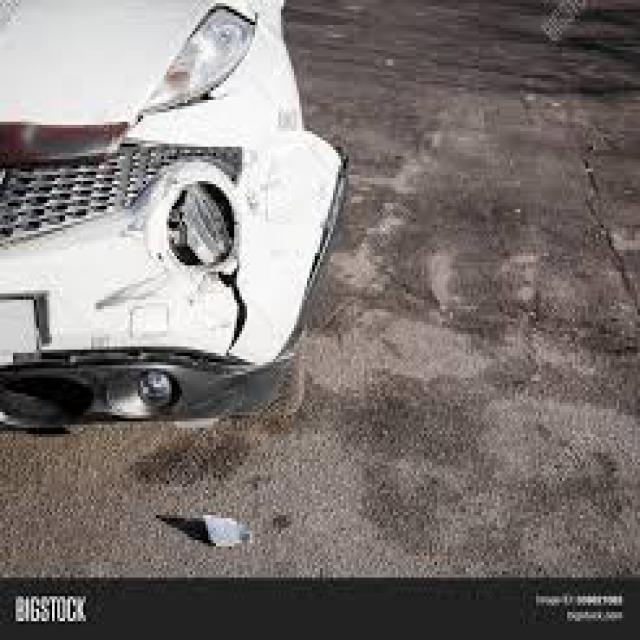front-bumper-dent: (0, 119, 367, 425)
